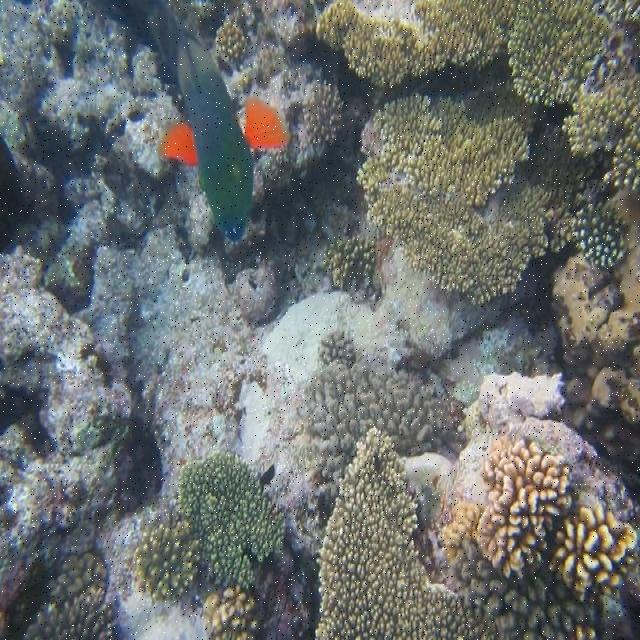fish: (98, 0, 286, 244)
reefs: (314, 430, 639, 638), (312, 3, 639, 192), (355, 84, 629, 302), (134, 456, 287, 639), (304, 364, 464, 486)
